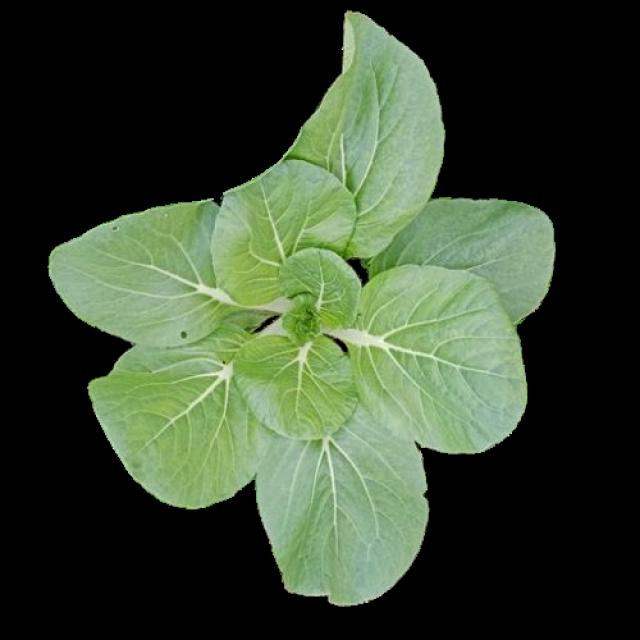not-mature: (49, 12, 553, 608)
unhealthy: (48, 202, 245, 346)
